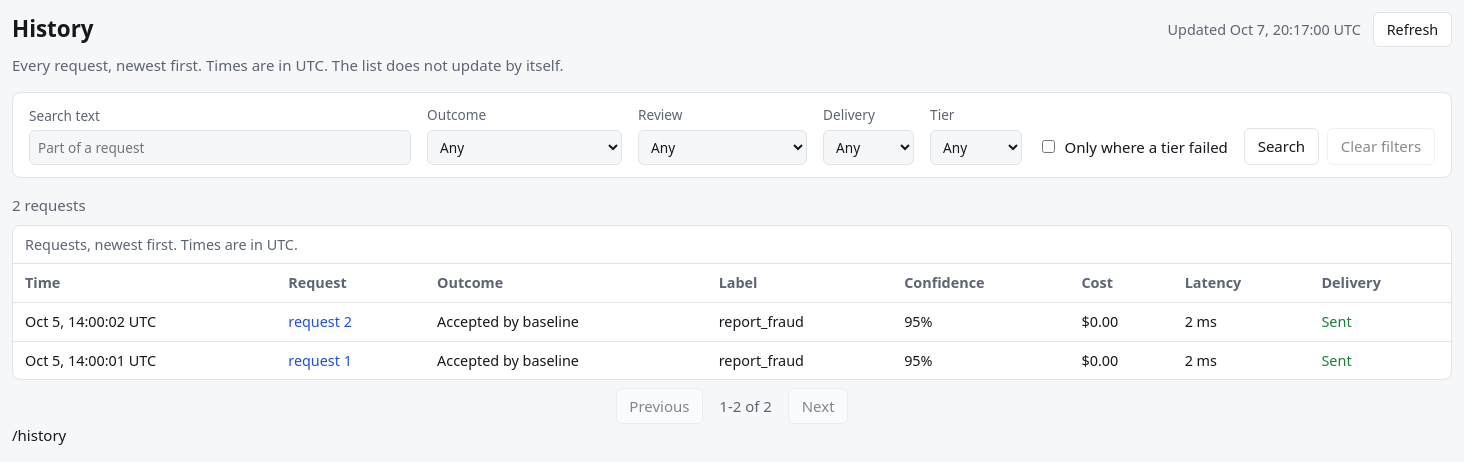
filters › filters by review, delivery and tier
This screenshot has width=1464, height=462.
Expected: the text "2 requests" is shown, [12,195,86,215]
Step 1. Select "Decided by a person" in the dropdown labelled "Review" → (723, 147), box [638,130,807,165]
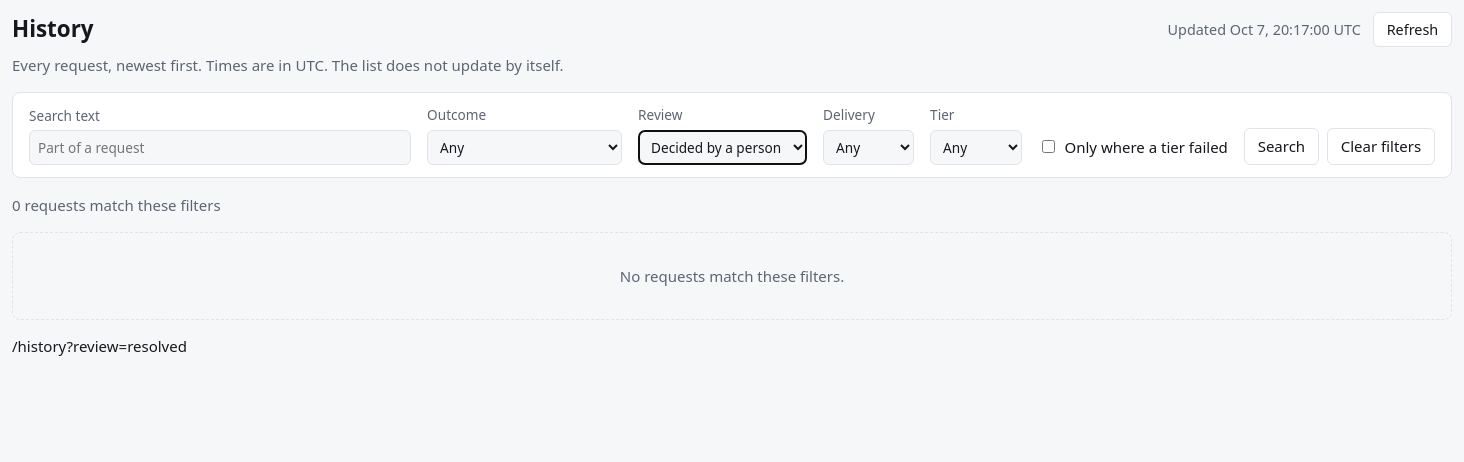
Step 2. Select "Failed" in the dropdown labelled "Delivery" → (869, 147), box [823,130,914,165]
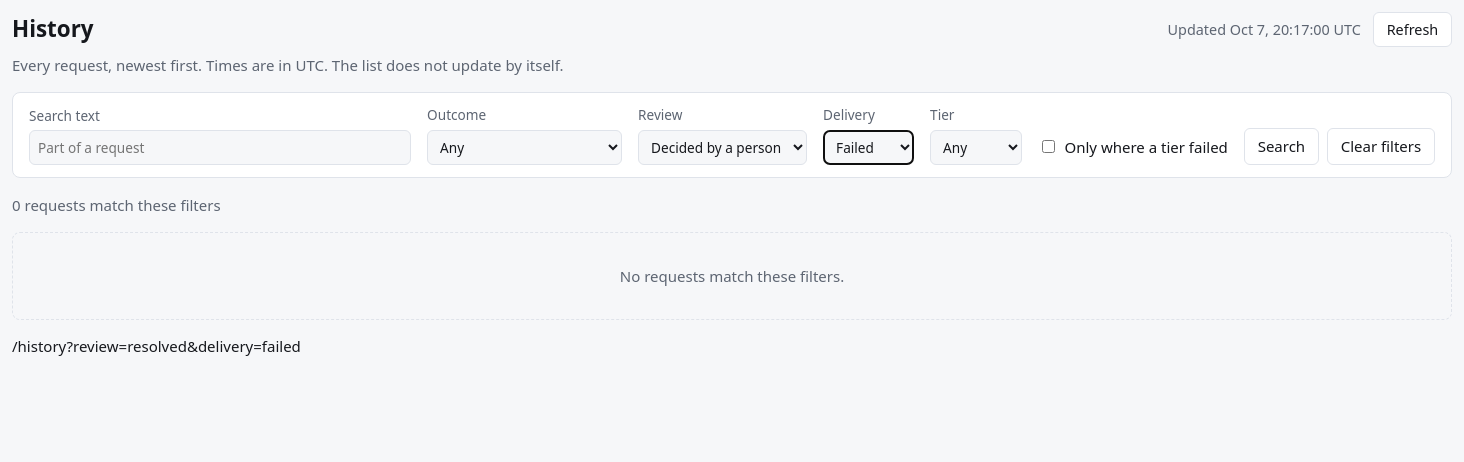
Step 3. Select "llm" in the dropdown labelled "Tier" → (976, 147), box [930,130,1022,165]
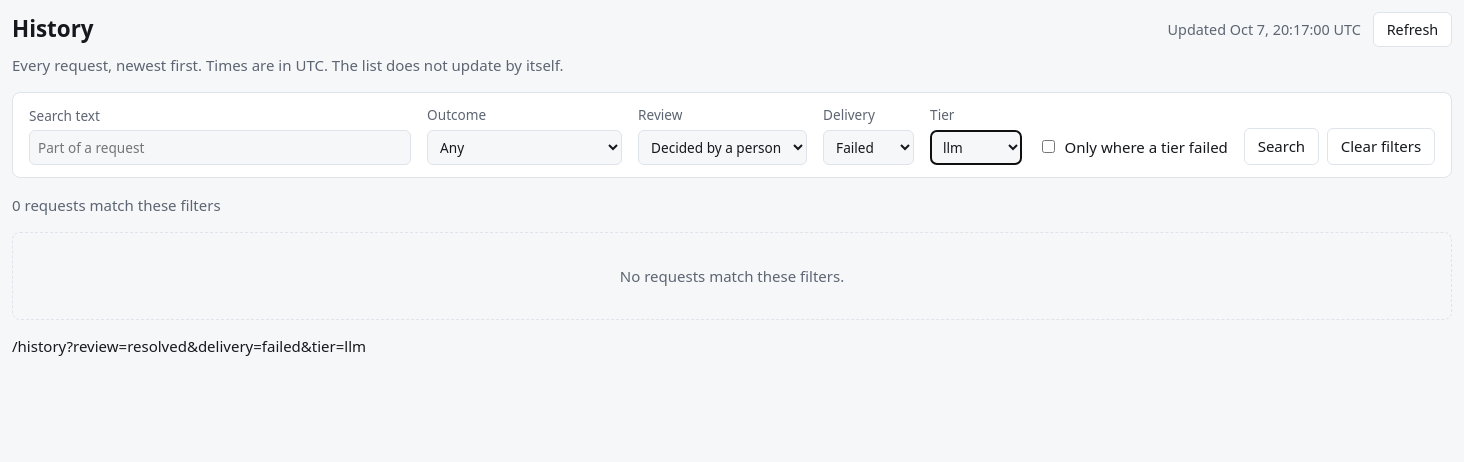
Expected: the text named "Address" reads "/history?review=resolved&delivery=failed&tier=llm", [12,336,366,356]
